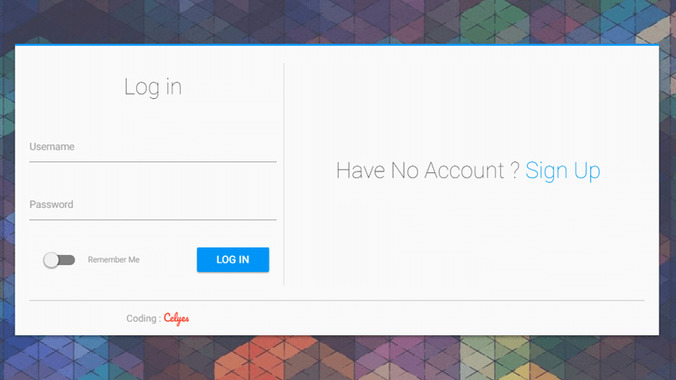_form_: (1, 40, 293, 380)
button: (195, 246, 271, 275)
field_line: (27, 139, 280, 165), (27, 197, 280, 223)
